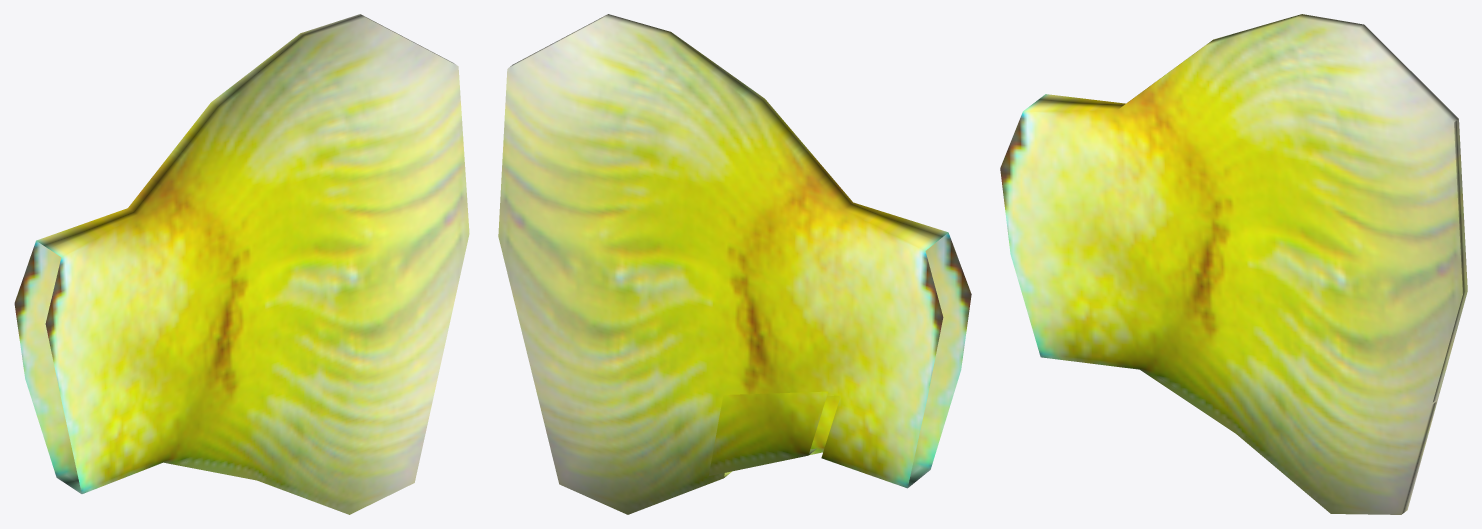
The model's file is colita.obj.
The picture shows the model from 3 angles, left to right: view 1: azimuth 30°, elevation 25°; view 2: azimuth 150°, elevation 25°; view 3: azimuth 330°, elevation 25°; orthographic projection.
Visible parts, largest first — view 1: polySurface5; view 2: polySurface5; view 3: polySurface5.
Boxes of the visible parts, left/top/right/bottom form: polySurface5: left=14, top=14, right=469, bottom=514; polySurface5: left=498, top=14, right=971, bottom=514; polySurface5: left=1000, top=14, right=1467, bottom=514.
Size of the model in its own units: 0.4964 by 0.5195 by 0.0677.
1 material, 1 textured.
